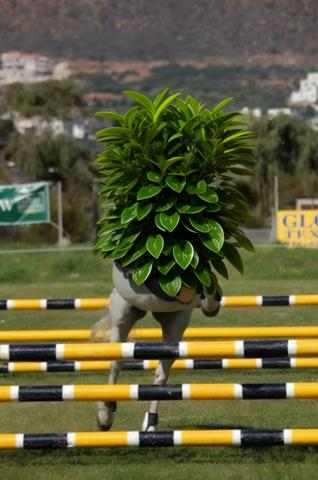horse: (96, 115, 230, 437)
pottedplant: (93, 88, 254, 293)
